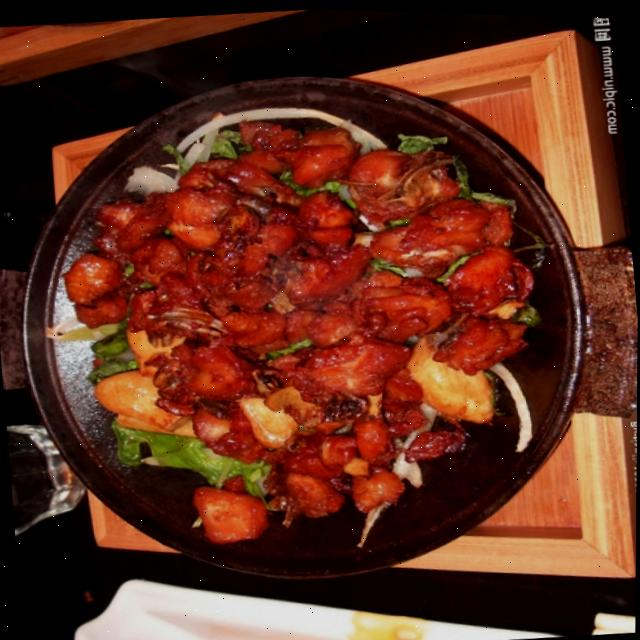鸡肉料理 含炸鸡: (17, 77, 607, 609)
